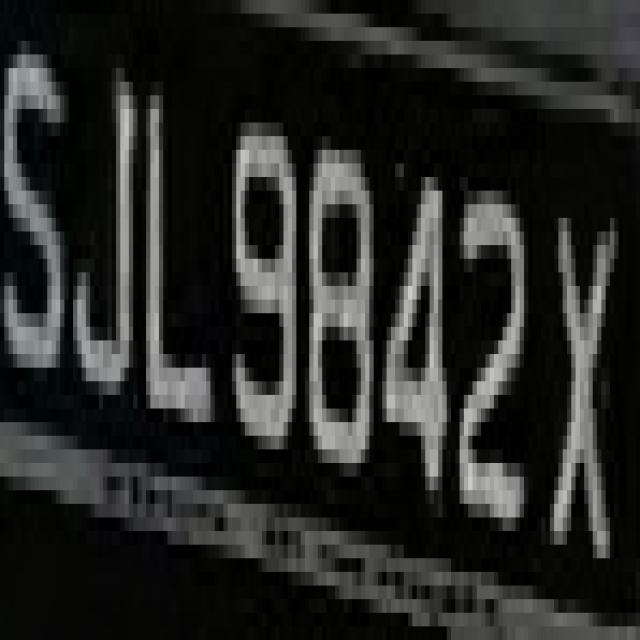2: (460, 122, 528, 586)
4: (374, 177, 464, 545)
8: (305, 95, 391, 545)
9: (215, 95, 296, 477)
J: (64, 54, 146, 450)
L: (133, 68, 206, 449)
S: (8, 28, 68, 450)
X: (541, 163, 619, 572)
